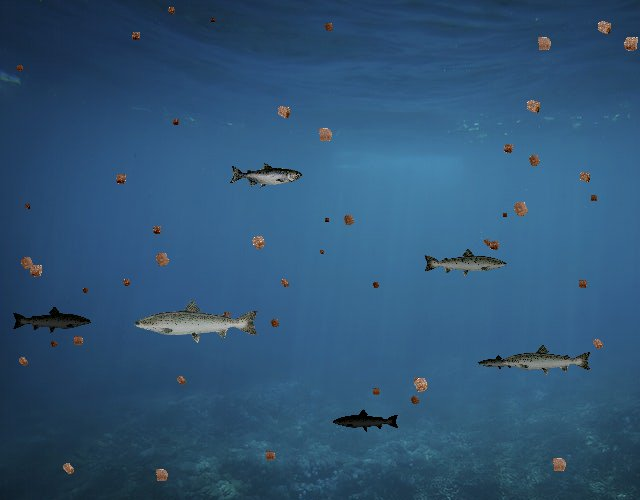Fish: (132, 298, 261, 344), (499, 344, 593, 377), (422, 247, 508, 278), (11, 305, 92, 334), (229, 162, 302, 189), (333, 408, 401, 433), (477, 355, 524, 371)
Pellet: (244, 228, 272, 256), (270, 99, 297, 126), (616, 28, 640, 58), (56, 456, 81, 481), (21, 201, 33, 213)
